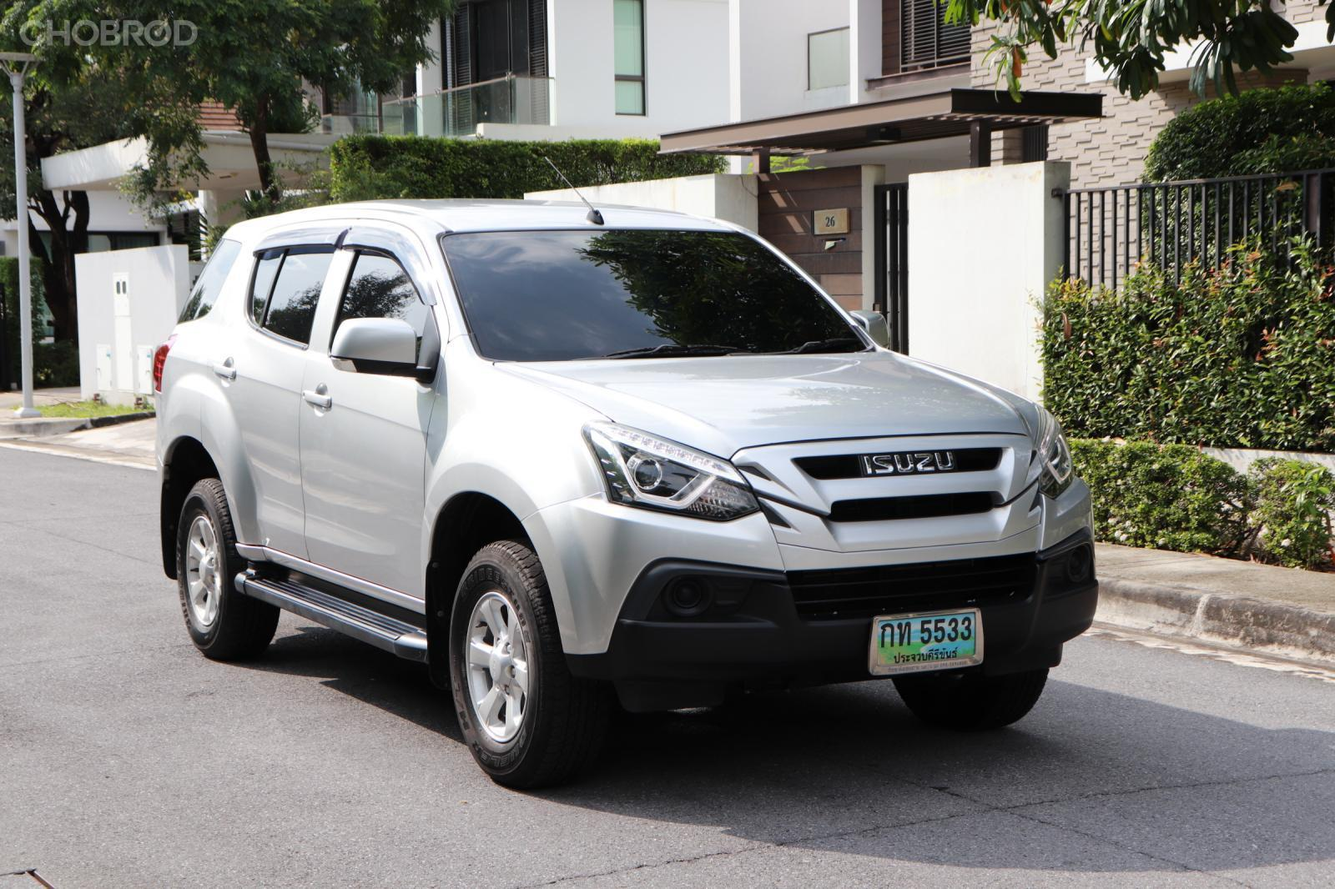license-plate: (864, 605, 991, 679)
